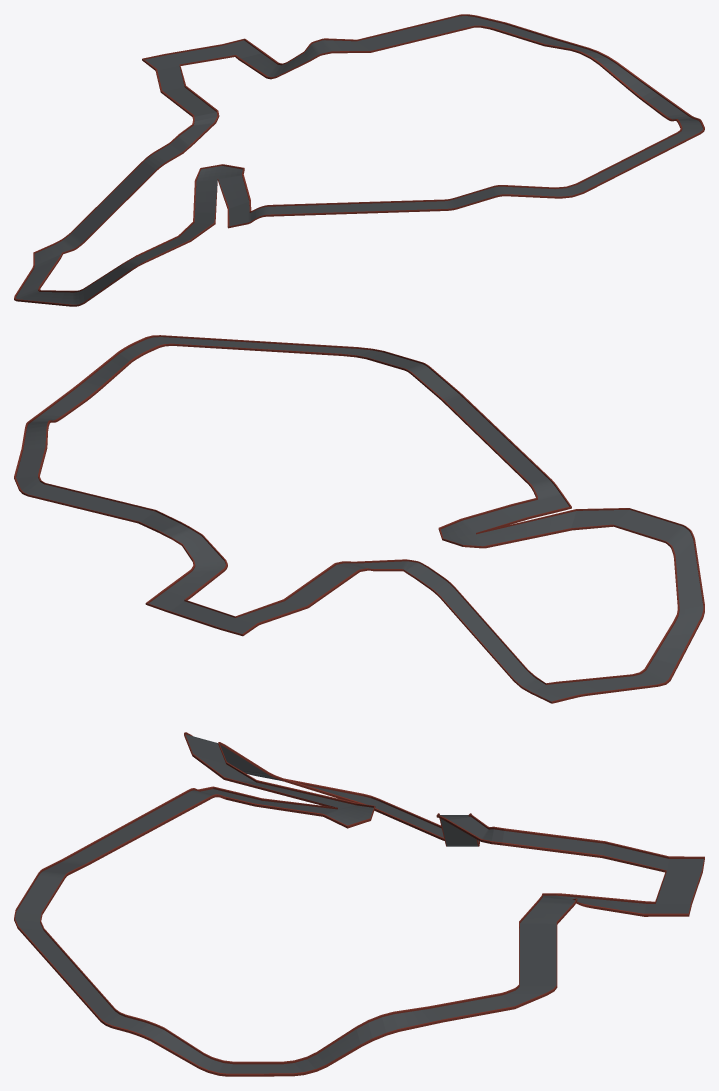
File: Track2Forrest.glb
The picture shows the model from 3 angles, top to bottom: view 1: azimuth 30°, elevation 25°; view 2: azimuth 150°, elevation 25°; view 3: azimuth 270°, elevation 25°; orthographic projection. The views are drawn at different scales.
Visible parts, largest first — view 1: ForestTrack; view 2: ForestTrack; view 3: ForestTrack.
Part boxes in pixels (x1,y1,x2,y2): ForestTrack: (14, 14, 704, 306); ForestTrack: (14, 335, 704, 703); ForestTrack: (14, 732, 704, 1076).
Bounding box in the file's own units: 3.91 × 0.7068 × 3.02.
